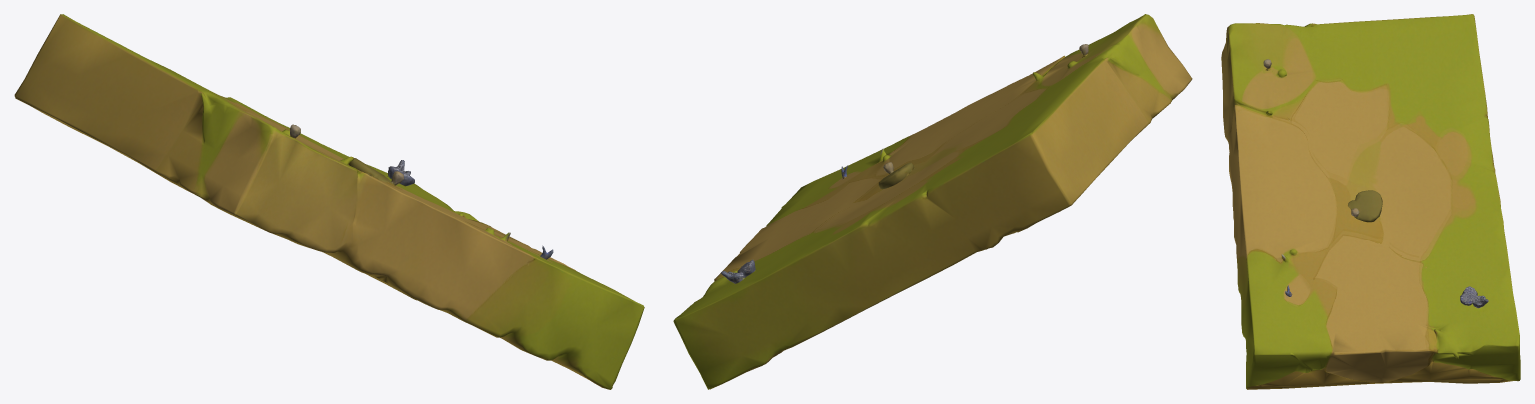
The model's file is stone_path_corner.fbx.
3 views of the same model, side by side, from view 1: azimuth 30°, elevation 25°; view 2: azimuth 150°, elevation 25°; view 3: azimuth 270°, elevation 25° (orthographic). The views are drawn at different scales.
Parts seen in each view (by area): view 1: tripo_node_f2795fb0; view 2: tripo_node_f2795fb0; view 3: tripo_node_f2795fb0.
Boxes of the visible parts, x1,y1,x2,y2 form: tripo_node_f2795fb0: (14, 14, 644, 389); tripo_node_f2795fb0: (673, 14, 1192, 389); tripo_node_f2795fb0: (1221, 14, 1520, 389).
Size of the model in its own units: 0.998 by 0.7363 by 0.7871.
